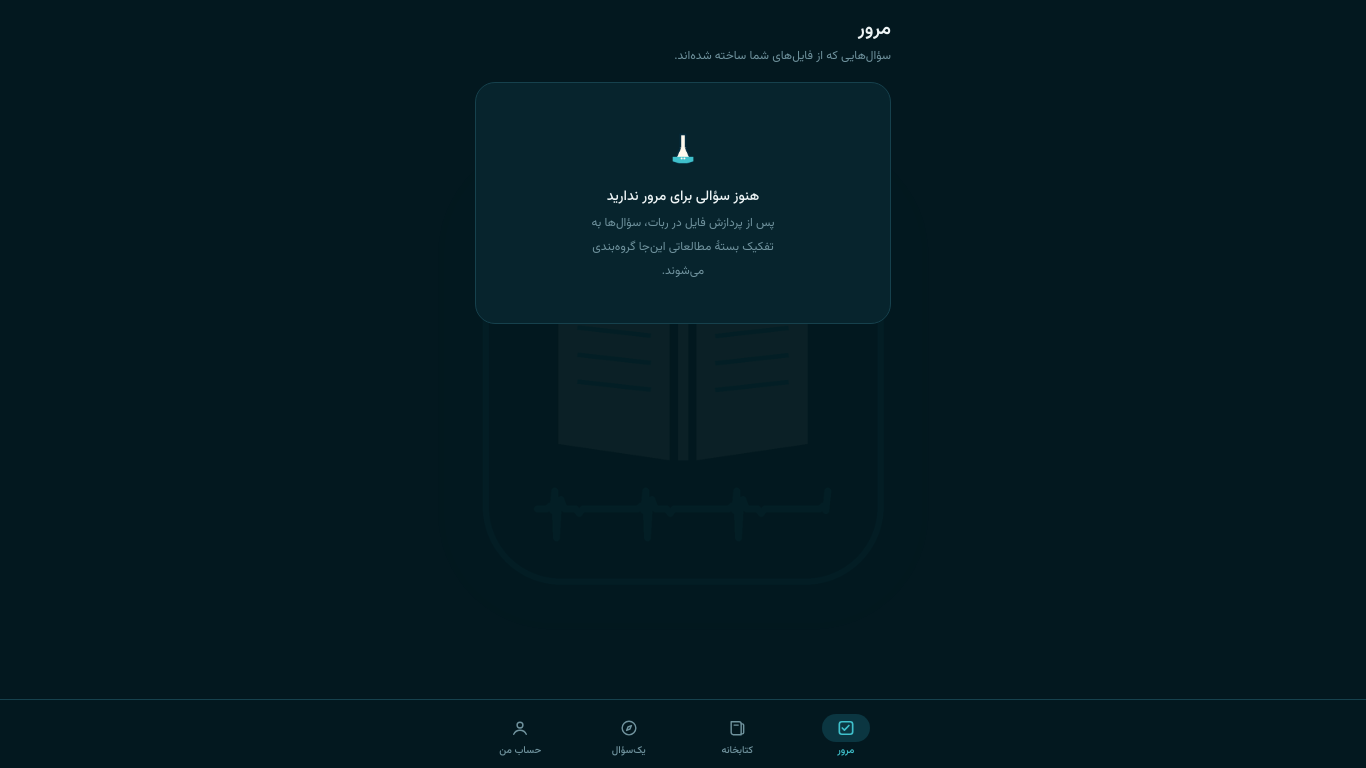
Test: reward redemption › reuses the same idempotency key when a redemption is retried
Click the tab "حساب من".
click(520, 735)  # box [467,708,574,762]
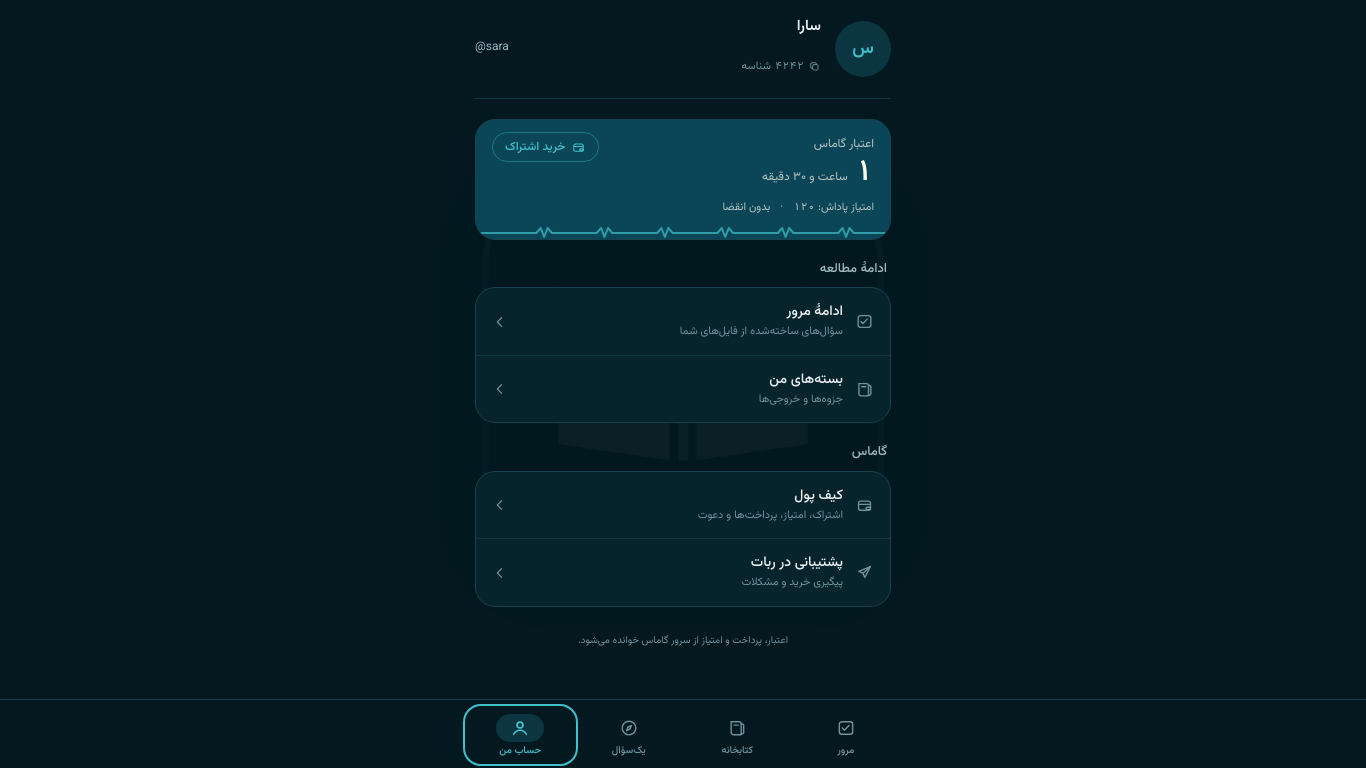
Click the text "کیف پول".
click(819, 496)  # box [794,485,843,507]
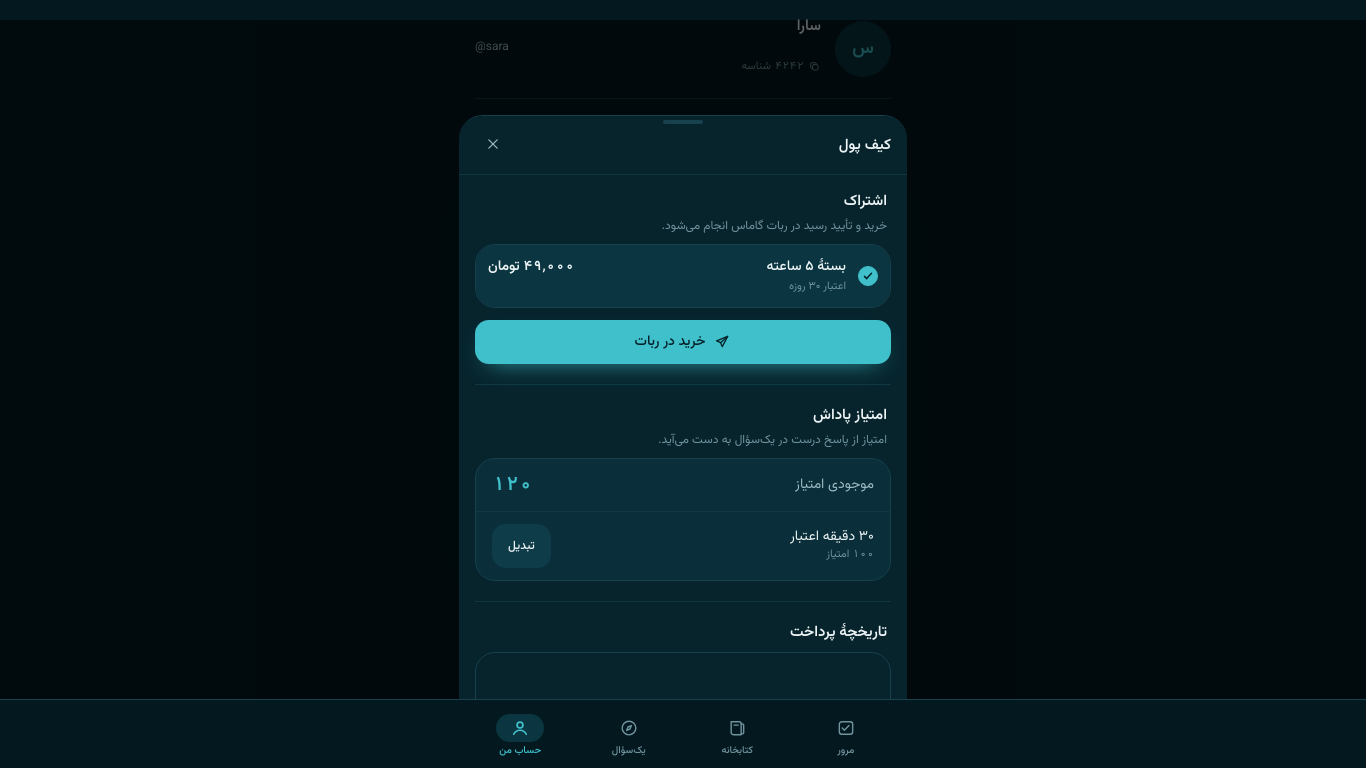
Click the button "تبدیل".
click(521, 546)  # box [492,524,551,568]
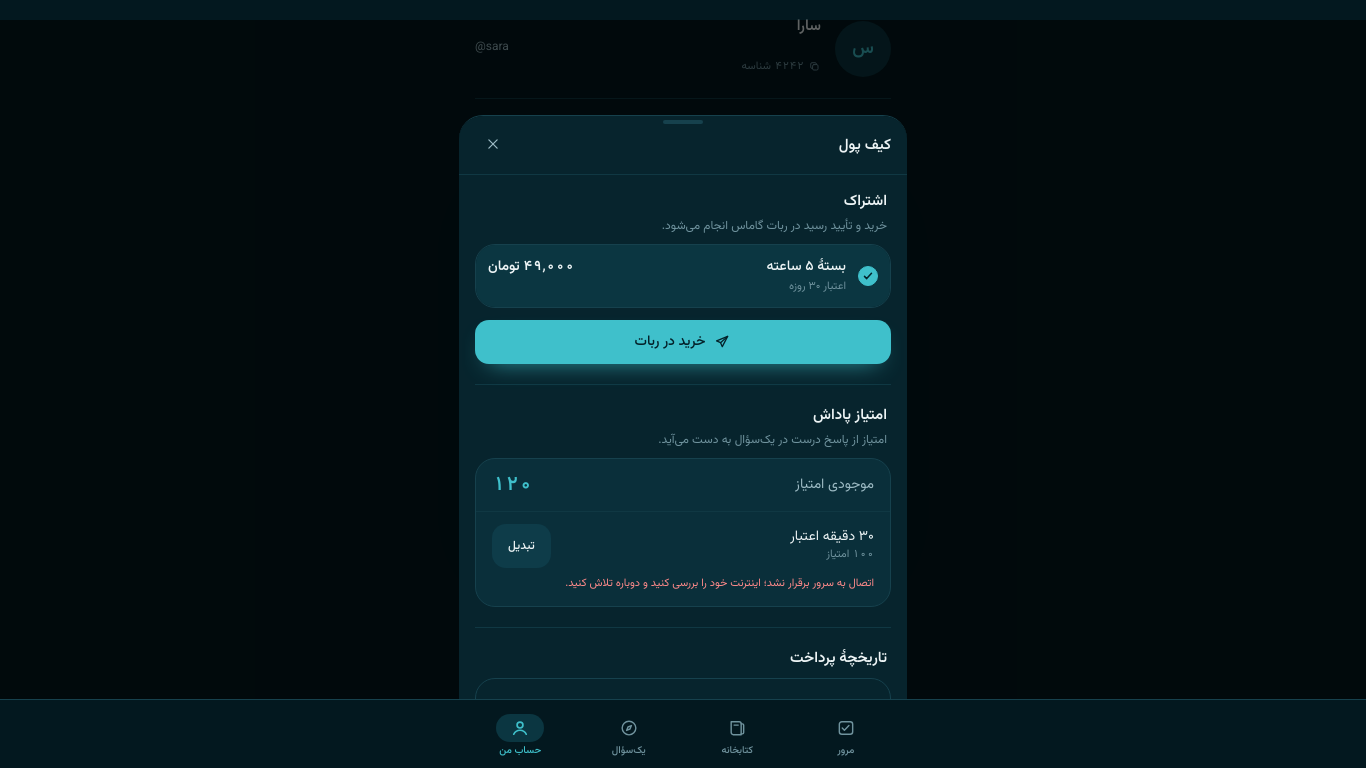
Check: the text "اتصال به سرور برقرار نشد؛ اینترنت خود را بررسی کنید و دوباره تلاش کنید." is shown, box [565,575,874,592]
Click the button "تبدیل".
click(521, 546)  # box [492,524,551,568]
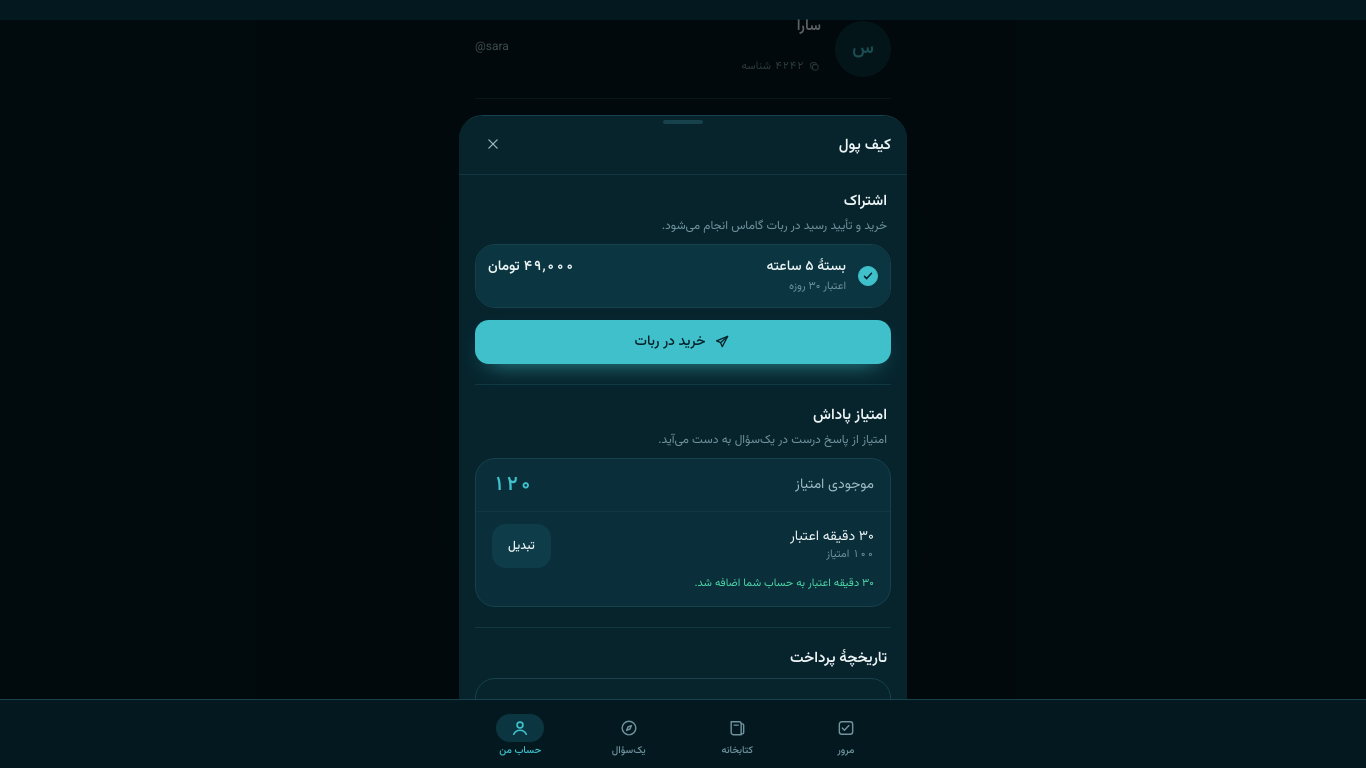
Check: the text "۳۰ دقیقه اعتبار به حساب شما اضافه شد." is shown, box [694,575,874,592]
